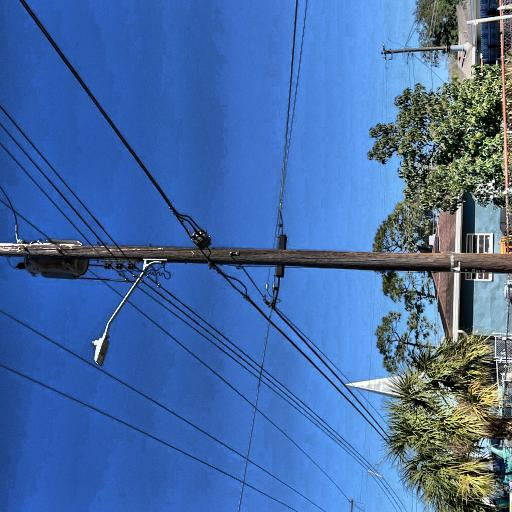insulator: (58, 26, 68, 39), (109, 38, 118, 50), (208, 63, 216, 73)
pole: (100, 43, 145, 512)
street light: (28, 214, 126, 301)
transformer: (110, 139, 143, 213)
